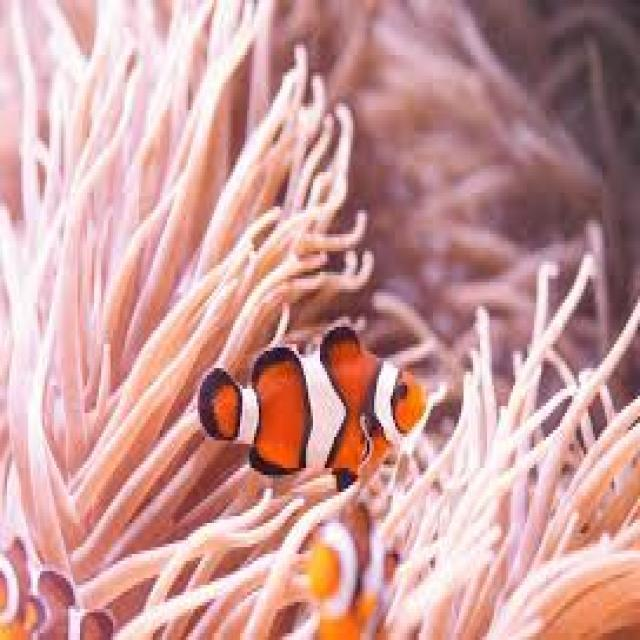ClownFish: (203, 327, 427, 494)
